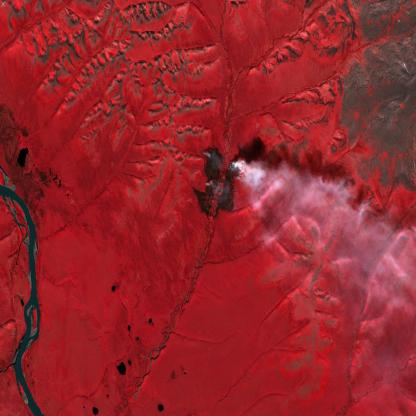fire: (202, 148, 246, 194)
